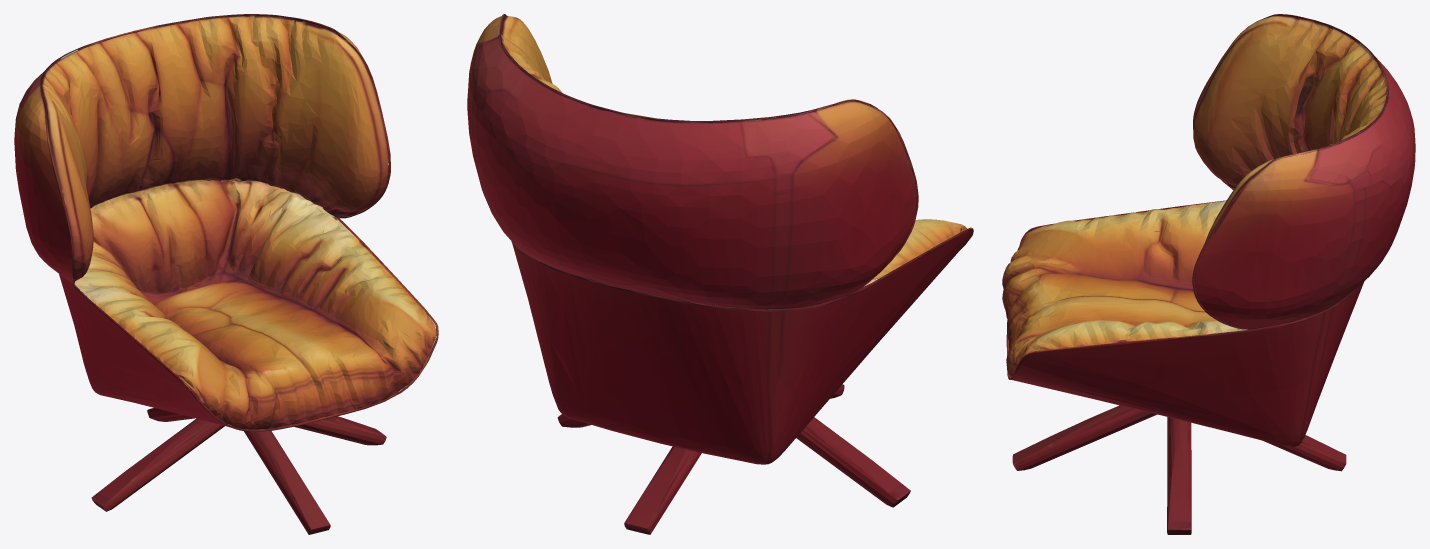
File: edited_mesh.glb
3 views of the same model, side by side, from view 1: azimuth 30°, elevation 25°; view 2: azimuth 150°, elevation 25°; view 3: azimuth 270°, elevation 25° (orthographic). The views are drawn at different scales.
Visible parts, largest first — view 1: solid_001_wire; view 2: solid_001_wire; view 3: solid_001_wire.
Part boxes in pixels (box(x1,y1,x2,y2)): solid_001_wire: box(14, 14, 438, 534); solid_001_wire: box(467, 14, 973, 534); solid_001_wire: box(1002, 14, 1415, 534).
Bounding box in the file's own units: 1.24 × 1.34 × 1.31.
1 material, 1 textured.
